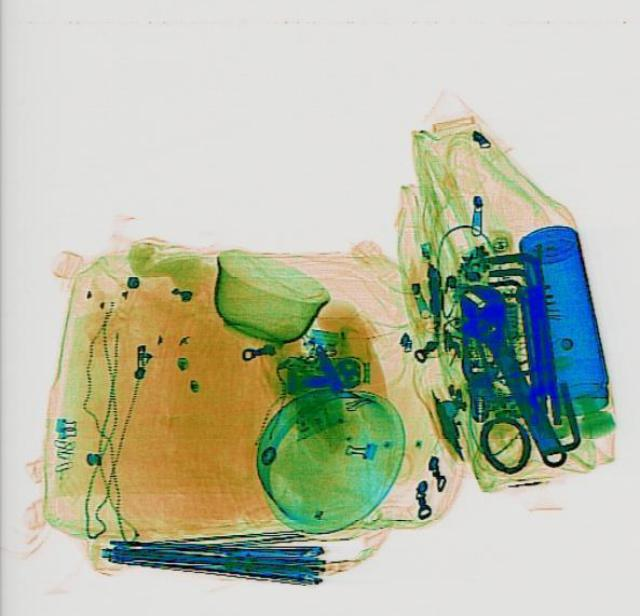Wrench: (438, 272, 584, 473)
